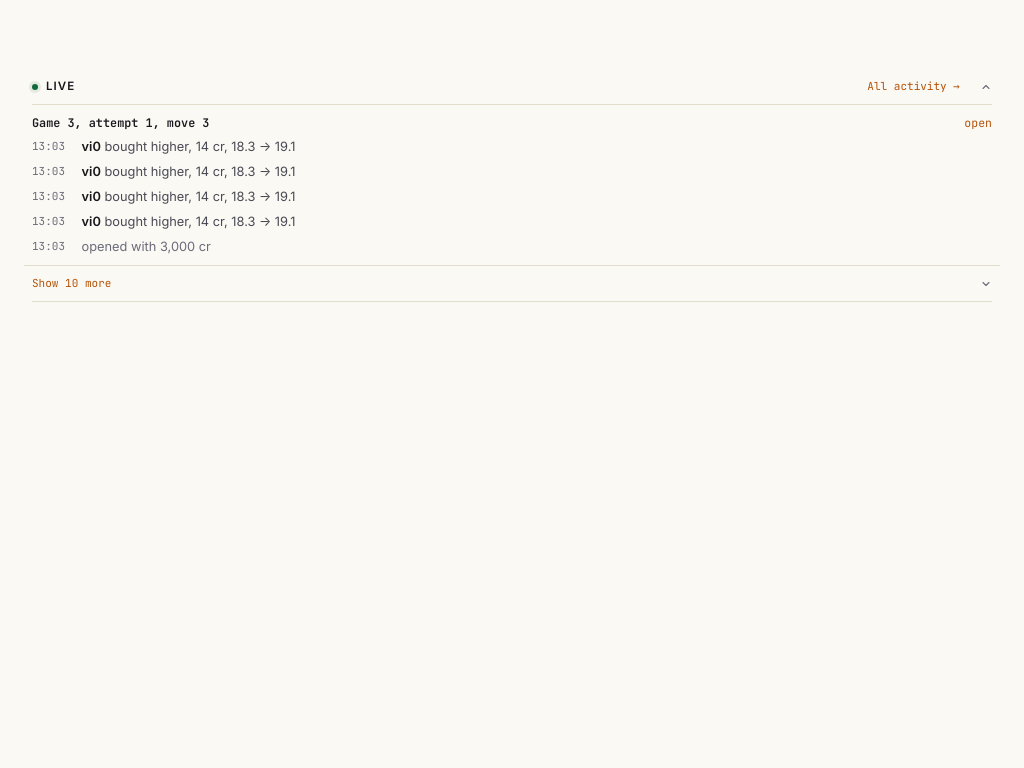
the compact Live block › SHOW MORE OPENS THE REST IN PLACE AND SHOW FEWER FOLDS IT BACK
expect the 2nd icon is shown: met, box x1=980 y1=278 x2=992 y2=290
Click the button "Show 10 more" at (72,283), box x1=32 y1=266 x2=992 y2=302
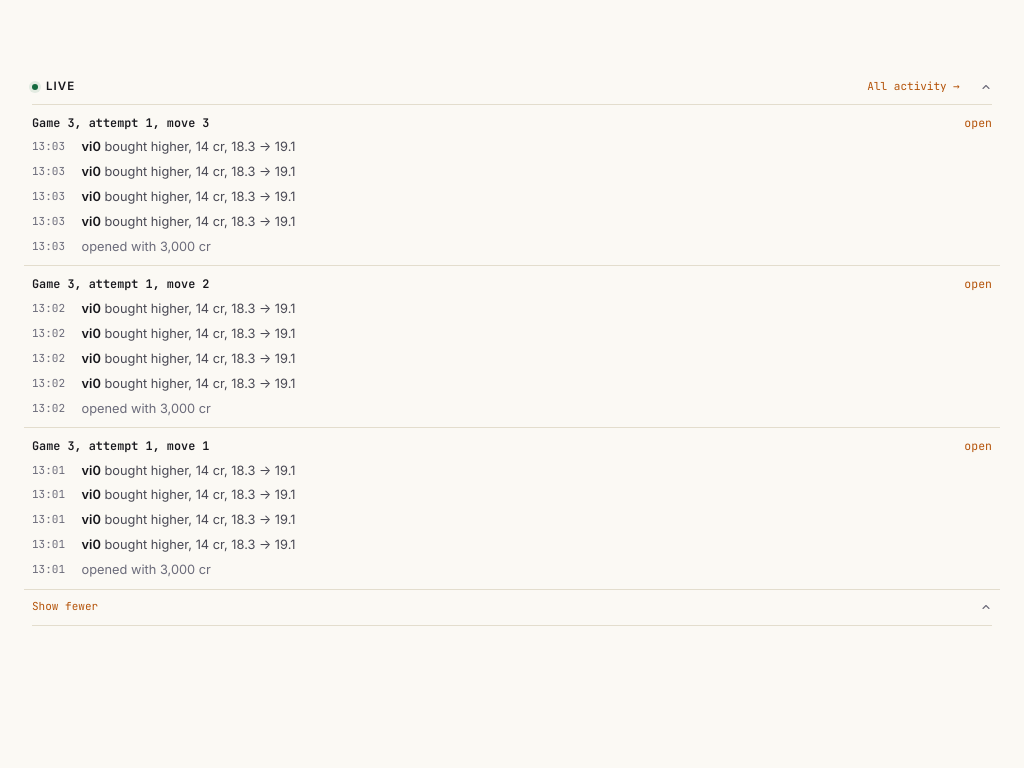
expect the button "Show fewer" is shown: met
expect the button "Show fewer" is expanded: met
Click the button "Show fewer" at (65,606), box x1=32 y1=590 x2=992 y2=626
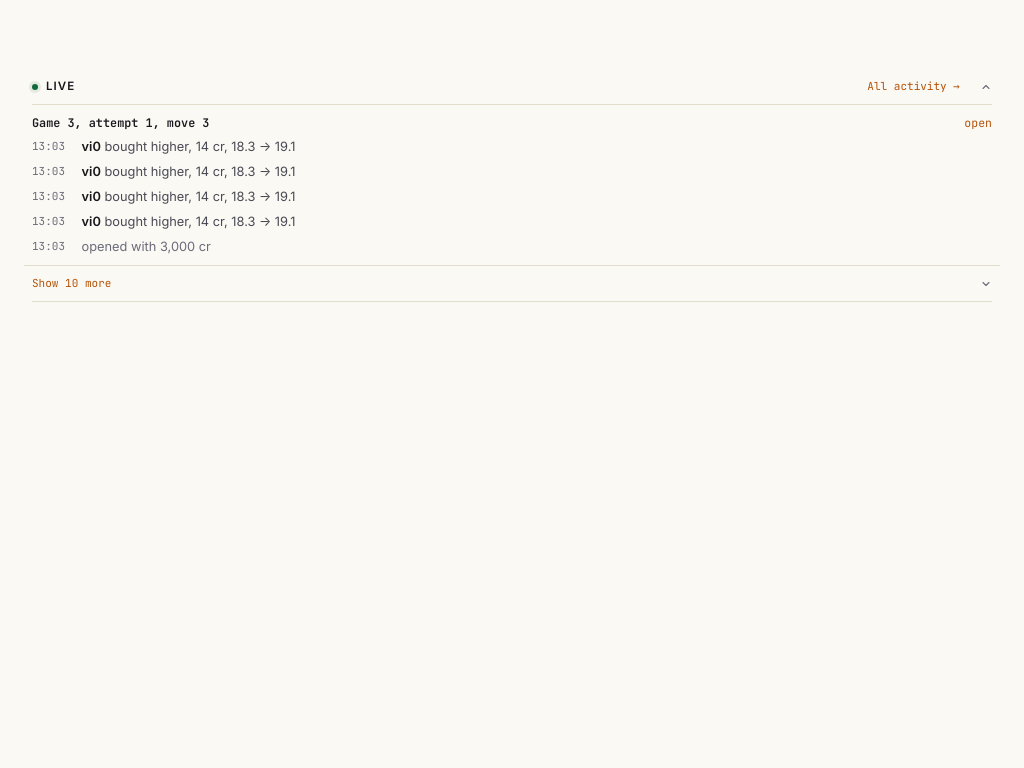
expect the button "Show 10 more" is shown: met, box x1=32 y1=266 x2=992 y2=302
